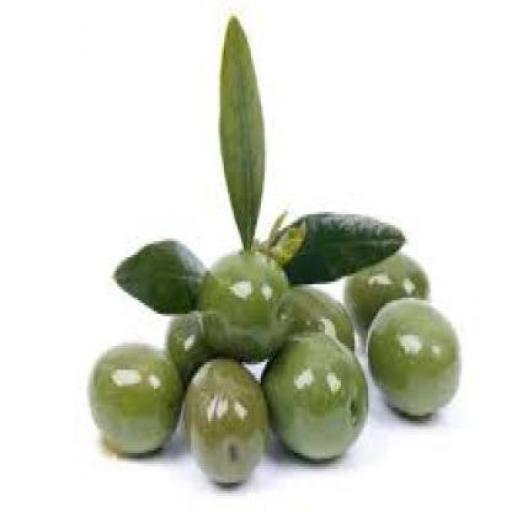biodegradable: (266, 336, 370, 458), (218, 8, 267, 263), (366, 295, 465, 418), (181, 354, 268, 485), (92, 348, 182, 462), (202, 246, 294, 357), (268, 215, 409, 281), (115, 236, 214, 322), (345, 248, 432, 330), (274, 288, 360, 356), (166, 311, 206, 378)
